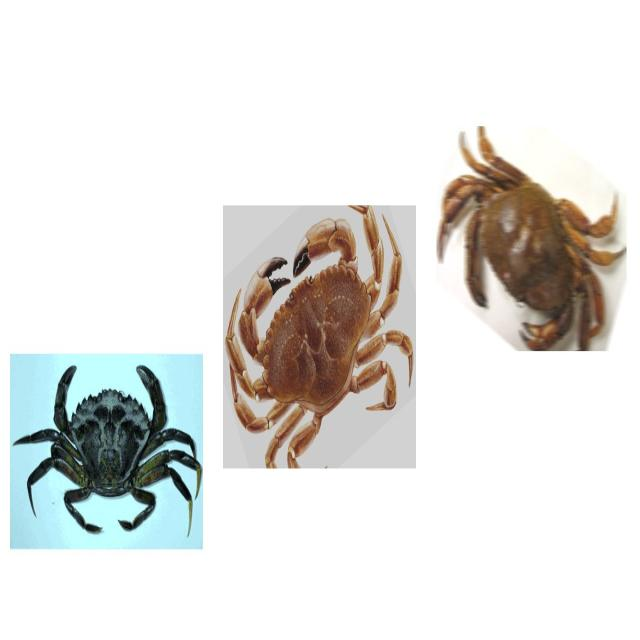egc: (9, 355, 200, 549)
jonah_crab: (223, 205, 415, 472)
rock_crab: (438, 122, 626, 352)
